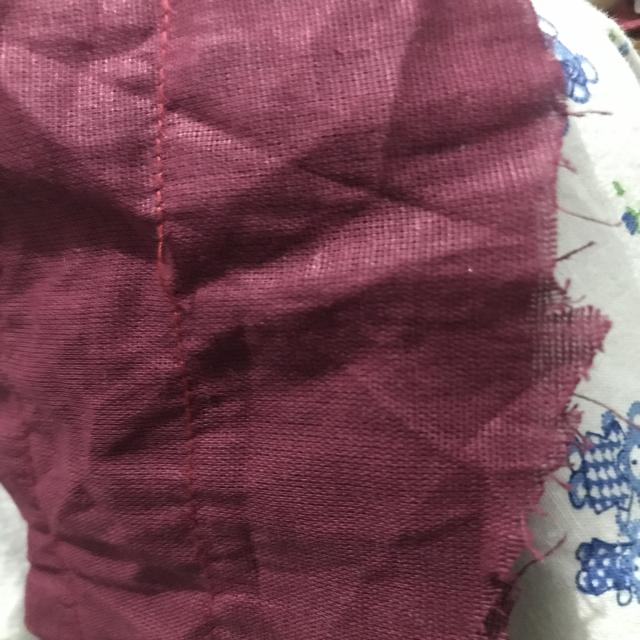skip: (127, 216, 204, 324)
